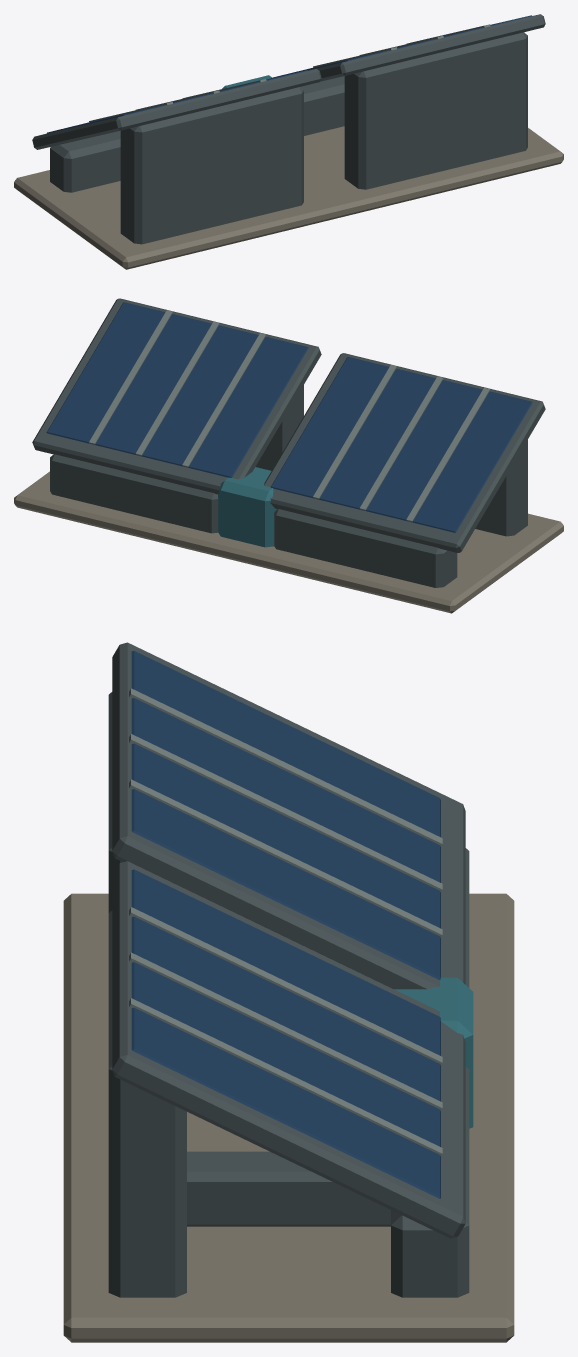
File: wb_solar_array.glb
The picture shows the model from 3 angles, top to bottom: view 1: azimuth 30°, elevation 25°; view 2: azimuth 150°, elevation 25°; view 3: azimuth 270°, elevation 25°; orthographic projection. The views are drawn at different scales.
Visible parts, largest first — view 1: wb_solar_array; view 2: wb_solar_array; view 3: wb_solar_array.
Boxes of the visible parts, x1=… form: wb_solar_array: x1=14, y1=14, x2=563, y2=269; wb_solar_array: x1=14, y1=298, x2=563, y2=613; wb_solar_array: x1=63, y1=642, x2=514, y2=1342.
Bounding box in the file's own units: 2.6 × 0.8011 × 1.15.
